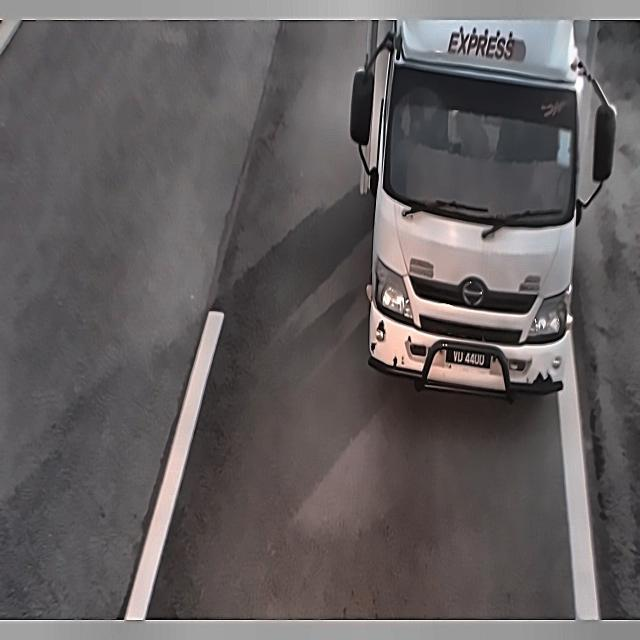car: (446, 340, 496, 379)
